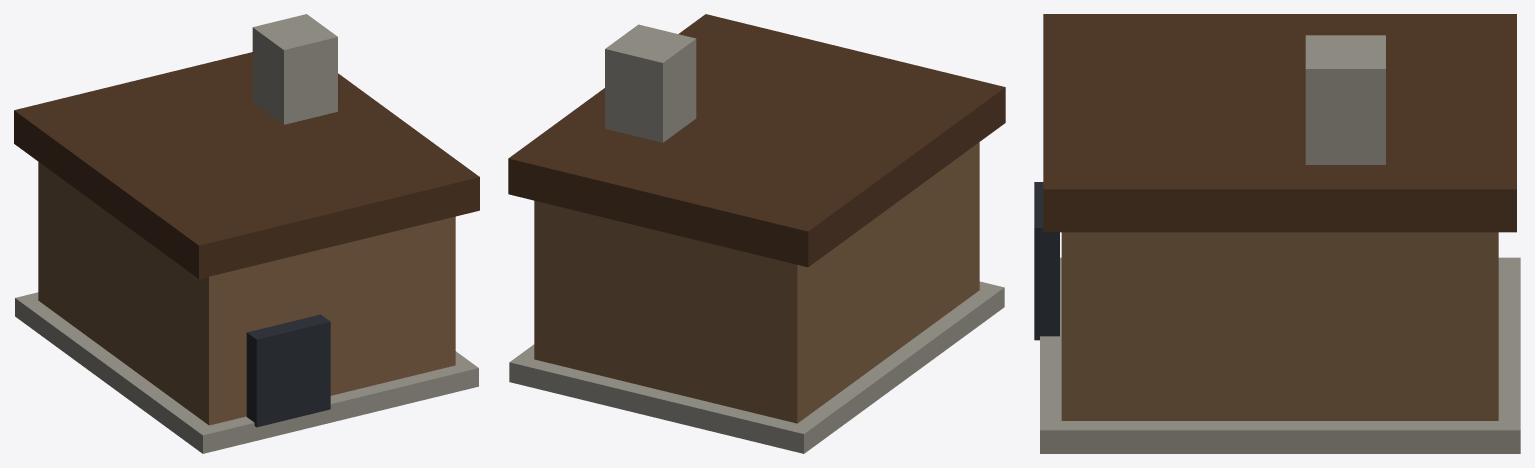
Rendered from bld_industrial_a01_lod2.glb.
3 views of the same model, side by side, from view 1: azimuth 30°, elevation 25°; view 2: azimuth 150°, elevation 25°; view 3: azimuth 270°, elevation 25° (orthographic). The views are drawn at different scales.
Parts seen in each view (by area): view 1: body; view 2: body; view 3: body.
Boxes of the visible parts, x1,y1,x2,y2 form: body: (14, 14, 479, 453); body: (508, 14, 1005, 453); body: (1034, 14, 1520, 453).
Bounding box in the file's own units: 5.7 × 5.48 × 6.67.
